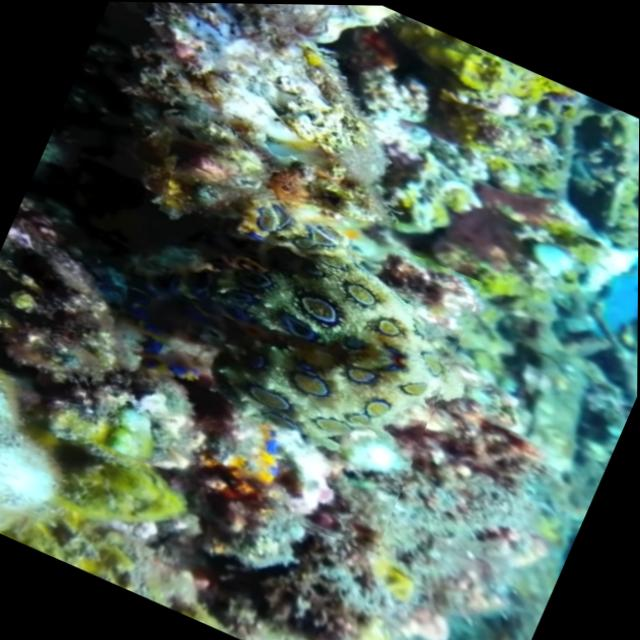blue_ringed_octopus: (64, 151, 490, 560)
